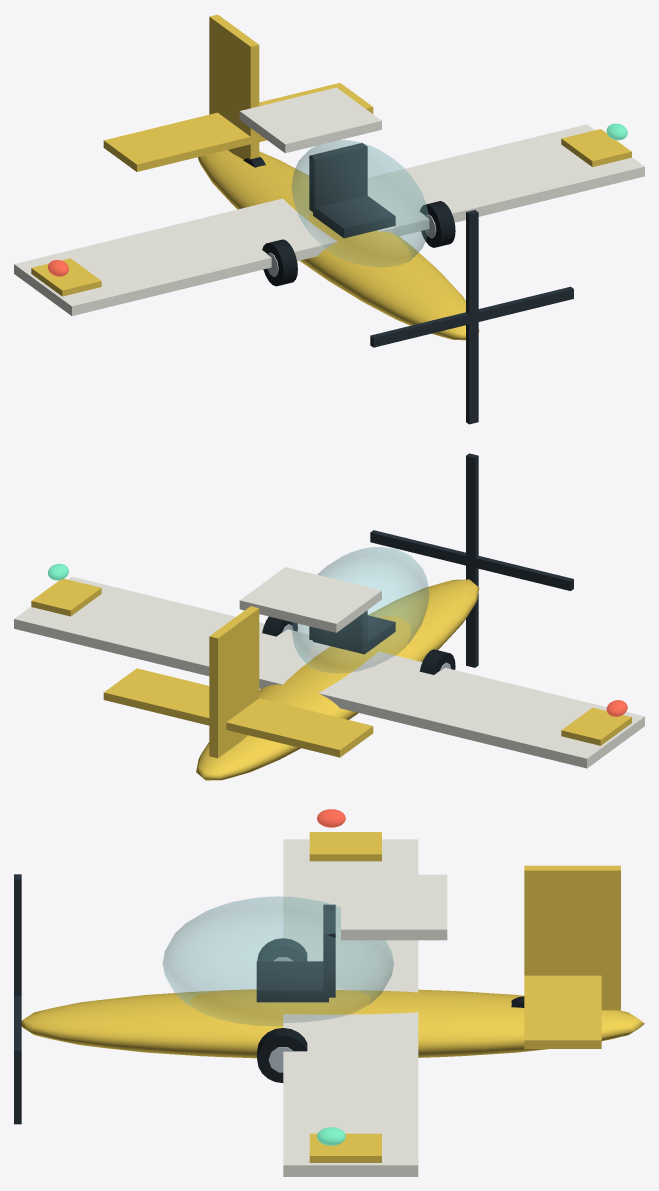
Rendered from trainer-plane.glb.
3 views of the same model, one above another, from view 1: azimuth 30°, elevation 25°; view 2: azimuth 150°, elevation 25°; view 3: azimuth 270°, elevation 25° (orthographic). The views are drawn at different scales.
Visible parts, largest first — view 1: trainer-plane, rotor.0, wheel.0.spin, wheel.1.spin; view 2: trainer-plane, rotor.0, wheel.0.spin, wheel.1.spin; view 3: trainer-plane, rotor.0, wheel.1.spin, wheel.0.spin.
Part boxes in pixels (x1,y1,x2,y2): trainer-plane: (14,14,644,340); rotor.0: (370,210,573,424); wheel.0.spin: (262,239,297,286); wheel.1.spin: (420,201,455,247); trainer-plane: (14,547,644,780); rotor.0: (370,453,573,667); wheel.0.spin: (419,649,455,674); wheel.1.spin: (262,616,297,636); trainer-plane: (21,809,644,1176); rotor.0: (14,874,21,1124); wheel.1.spin: (257,1028,307,1082); wheel.0.spin: (257,938,307,961).
Bounding box in the file's own units: 8.04 × 2.9 × 6.54.
